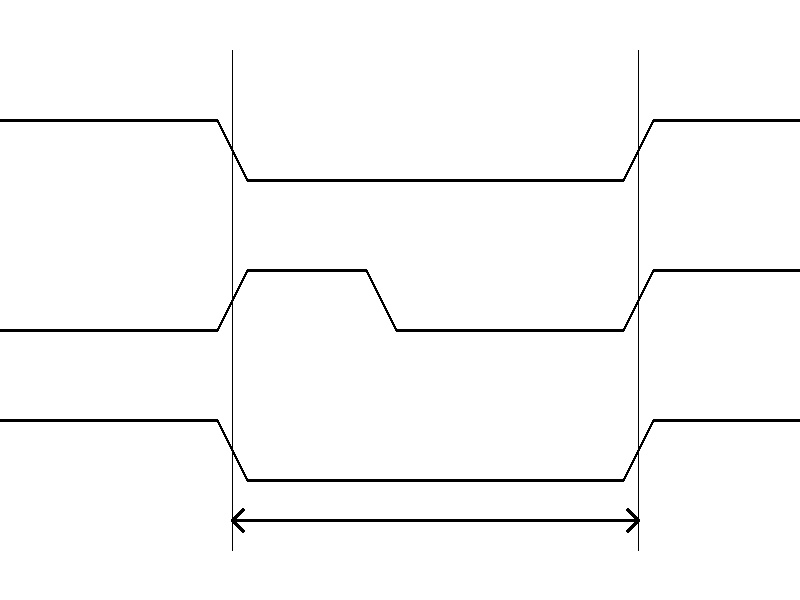double_arrow: (232, 505, 638, 535)
